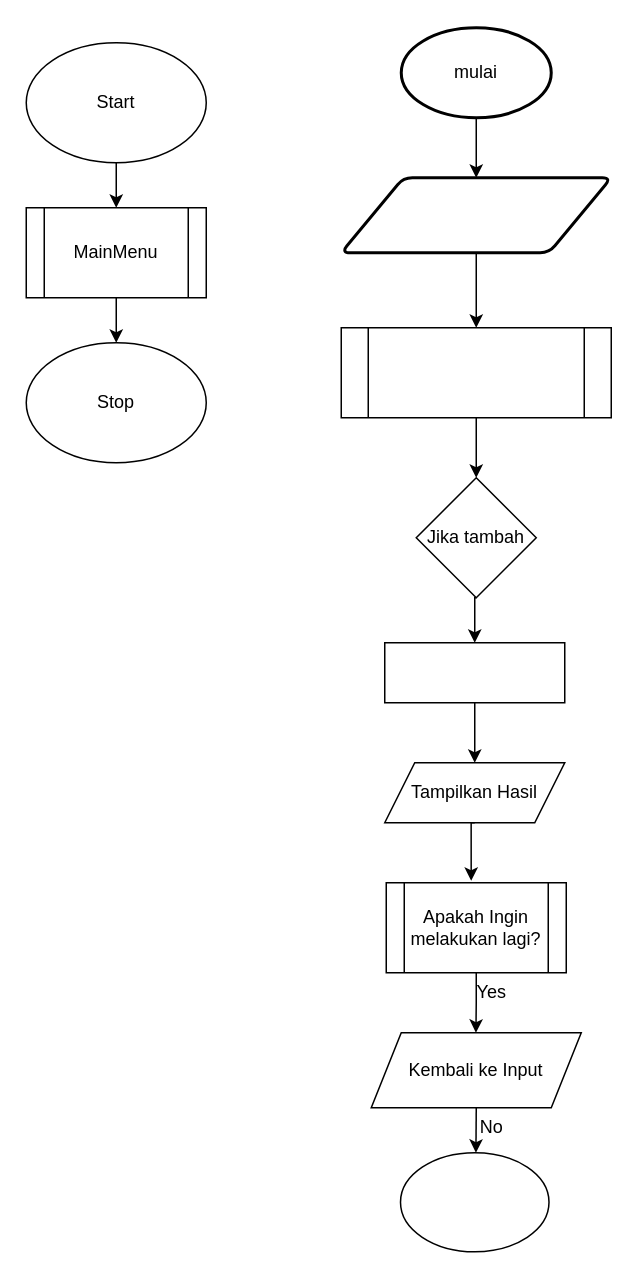
Image size: 639x1278. Some labels were removed from this diagram. The centre of each missing label's shape, as x and y in pixels:
"Hasil = tambah(a,b)" belongs at (x=474, y=672).
"Input Angka a,b" belongs at (x=475, y=215).
"Pilih Operasi (Tambah/Kali)" belongs at (x=475, y=372).
"selesai" belongs at (x=474, y=1201).
